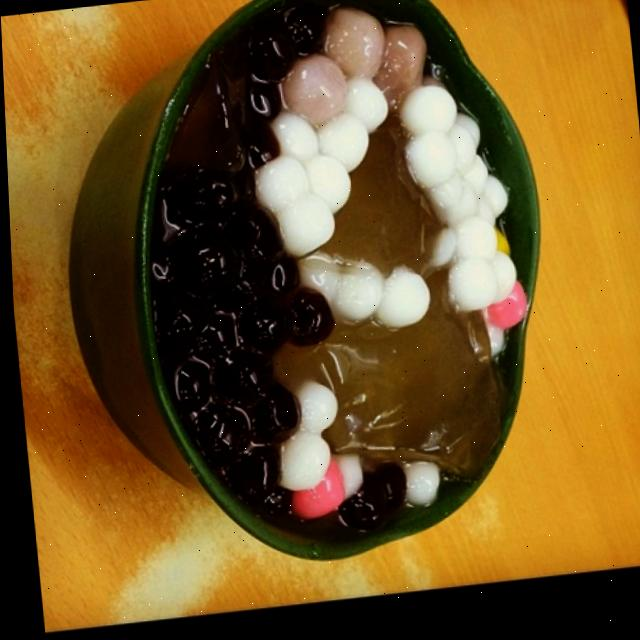蛋糕甜品: (77, 0, 593, 569)
